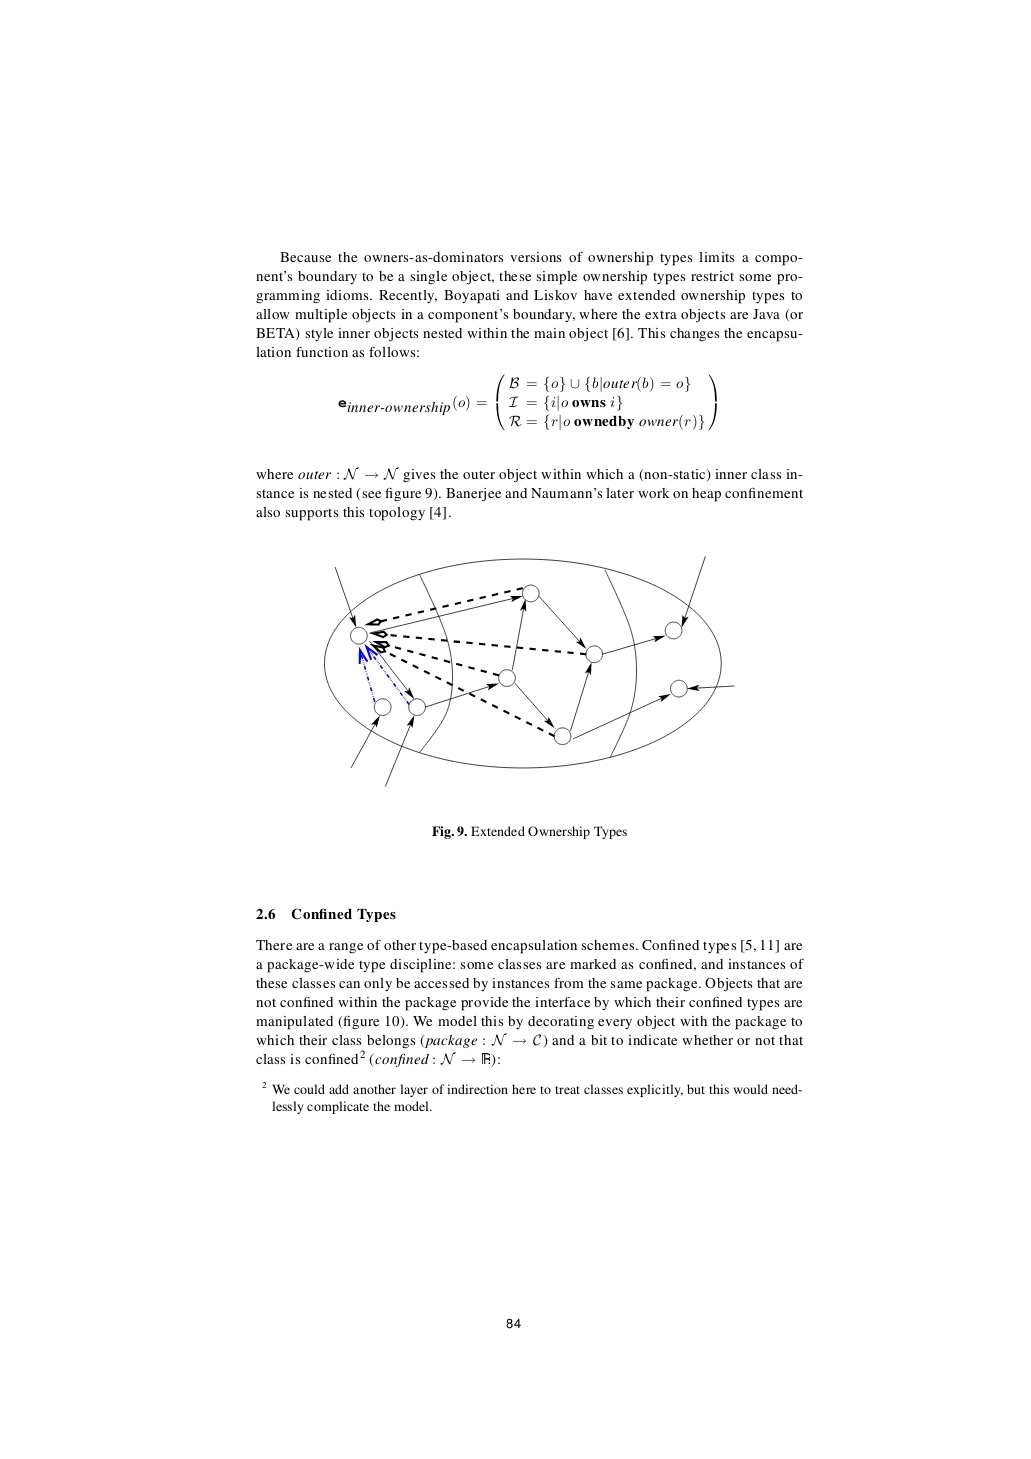figure: (324, 555, 734, 788)
formula: (338, 373, 716, 431)
